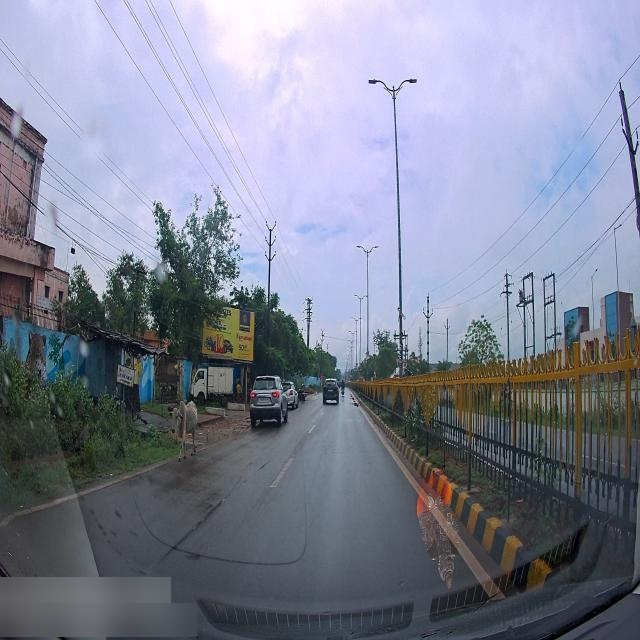pothole: (350, 387, 358, 410)
